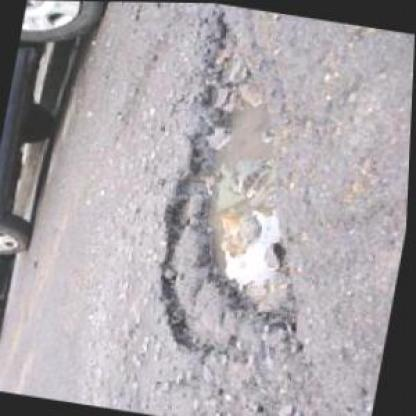pothole: (138, 6, 368, 370)
